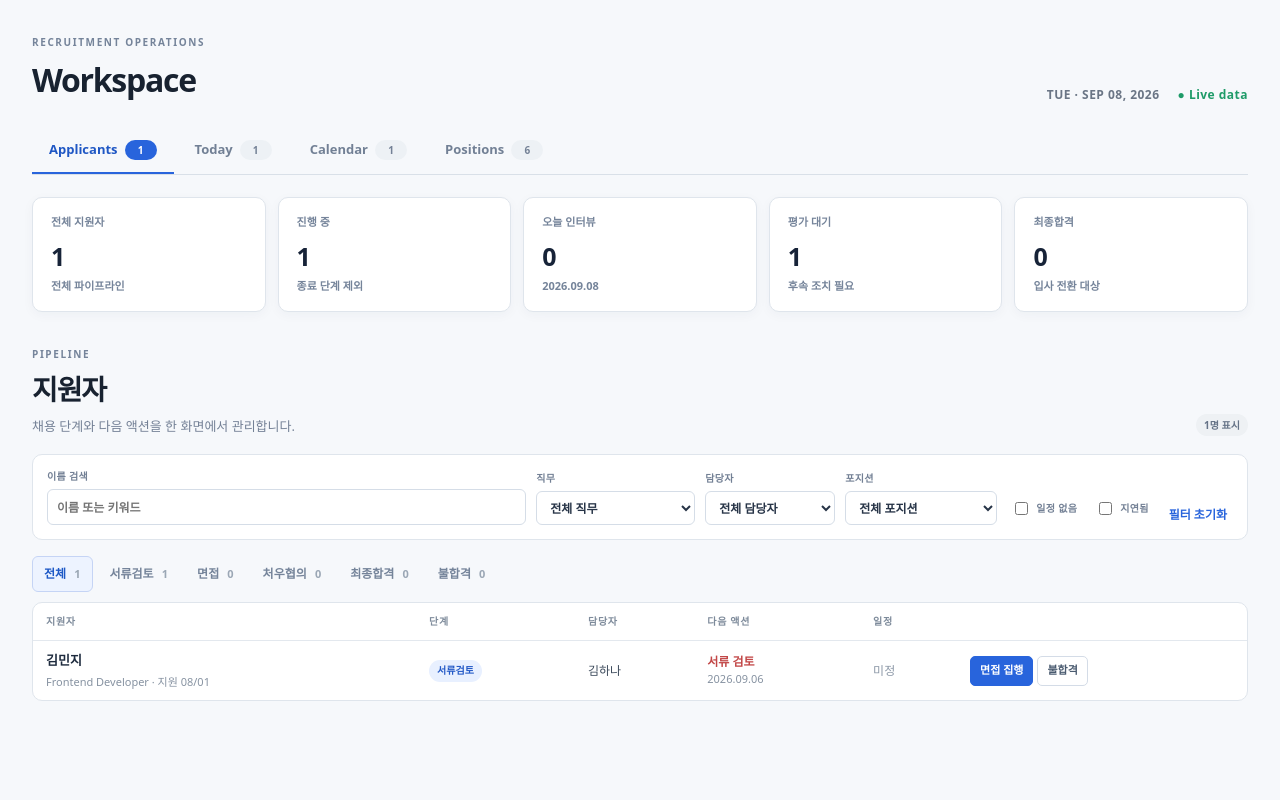
Test: offers exactly destination and rejection actions and requires a rejection reason
Expected: the button with aria-label "면접 집행 · 김민지 · applicant-001" reads "면접 집행", [970,656,1033,686]
Click the button with aria-label "불합격 처리 · 김민지 · applicant-001": (1063, 670) [1037,656,1088,686]
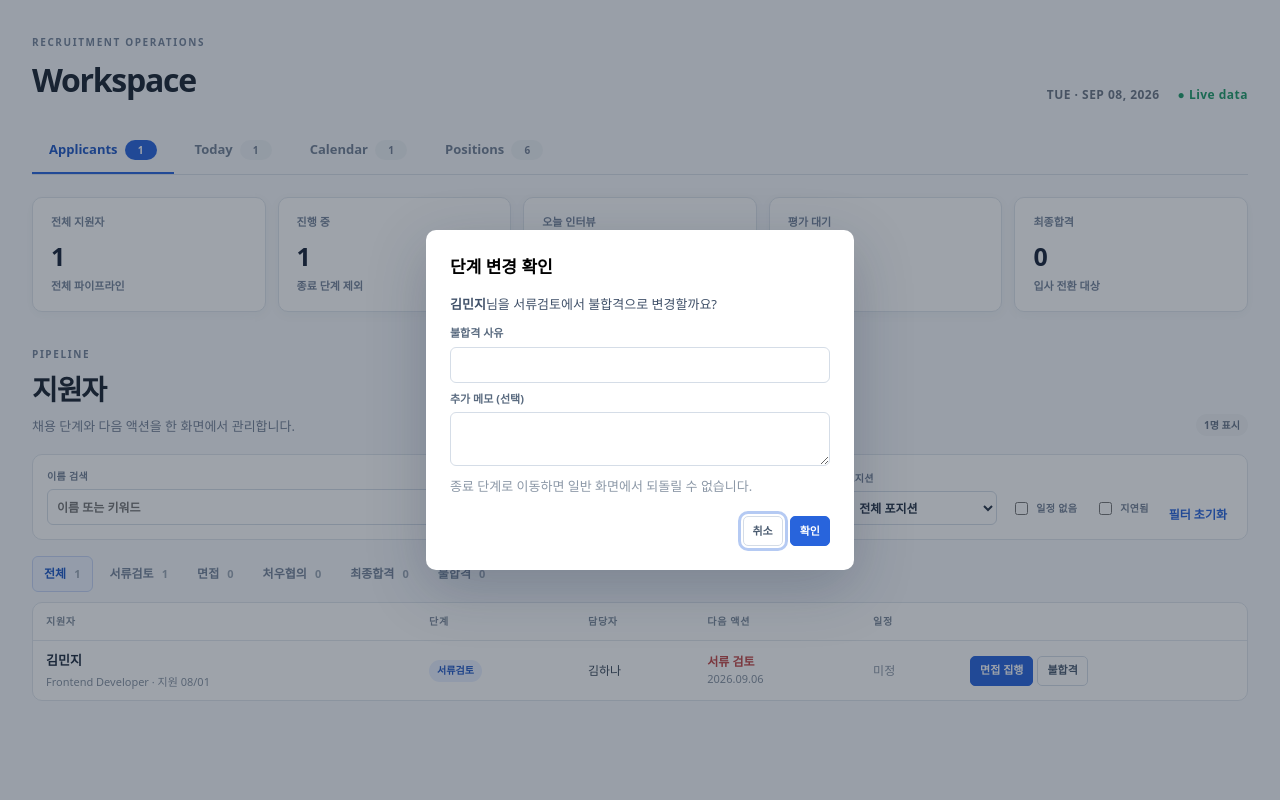
Expected: the dialog is shown, [426,230,854,570]
Click the button "확인": (810, 531) [790,516,830,546]
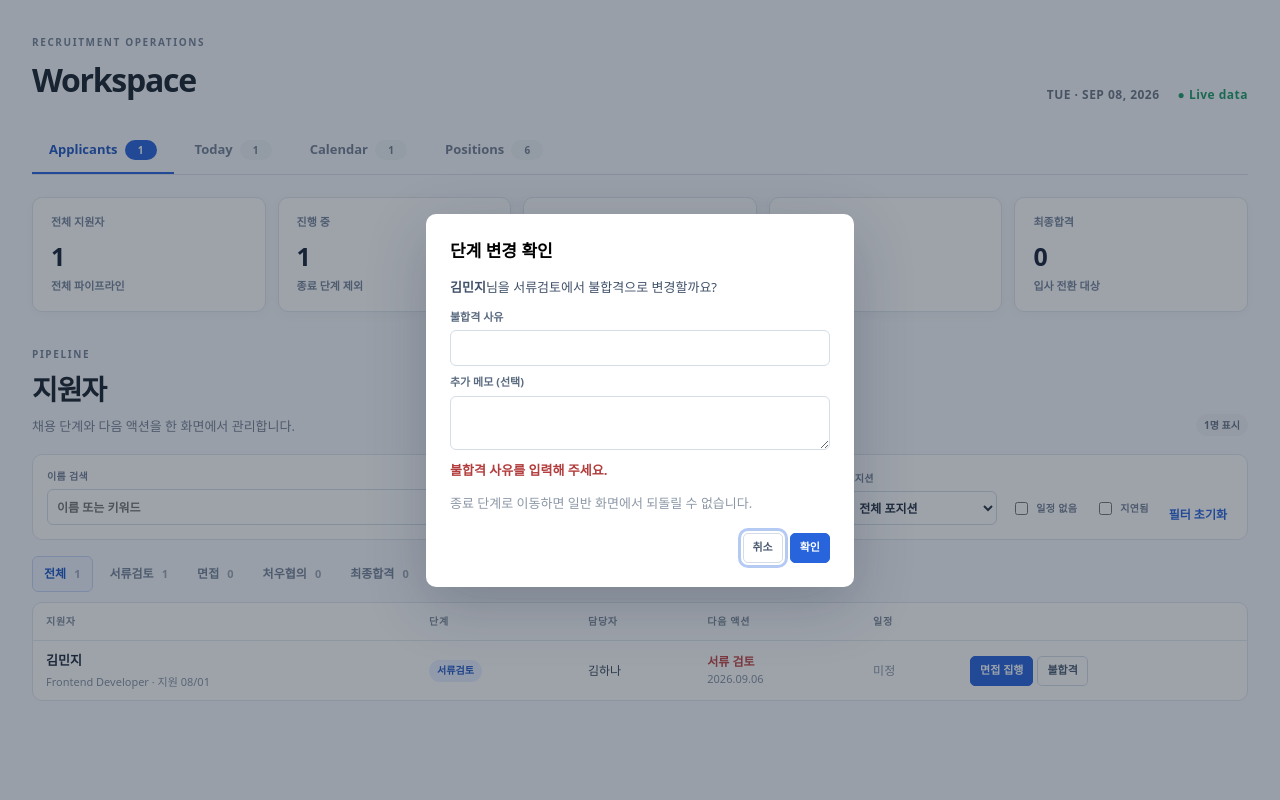
Expected: the text "불합격 사유를 입력해 주세요." is shown, [450,460,607,478]
In the field labelled "불합격 사유": (640, 348) [450,330,830,366], type "경력 요건 불일치"
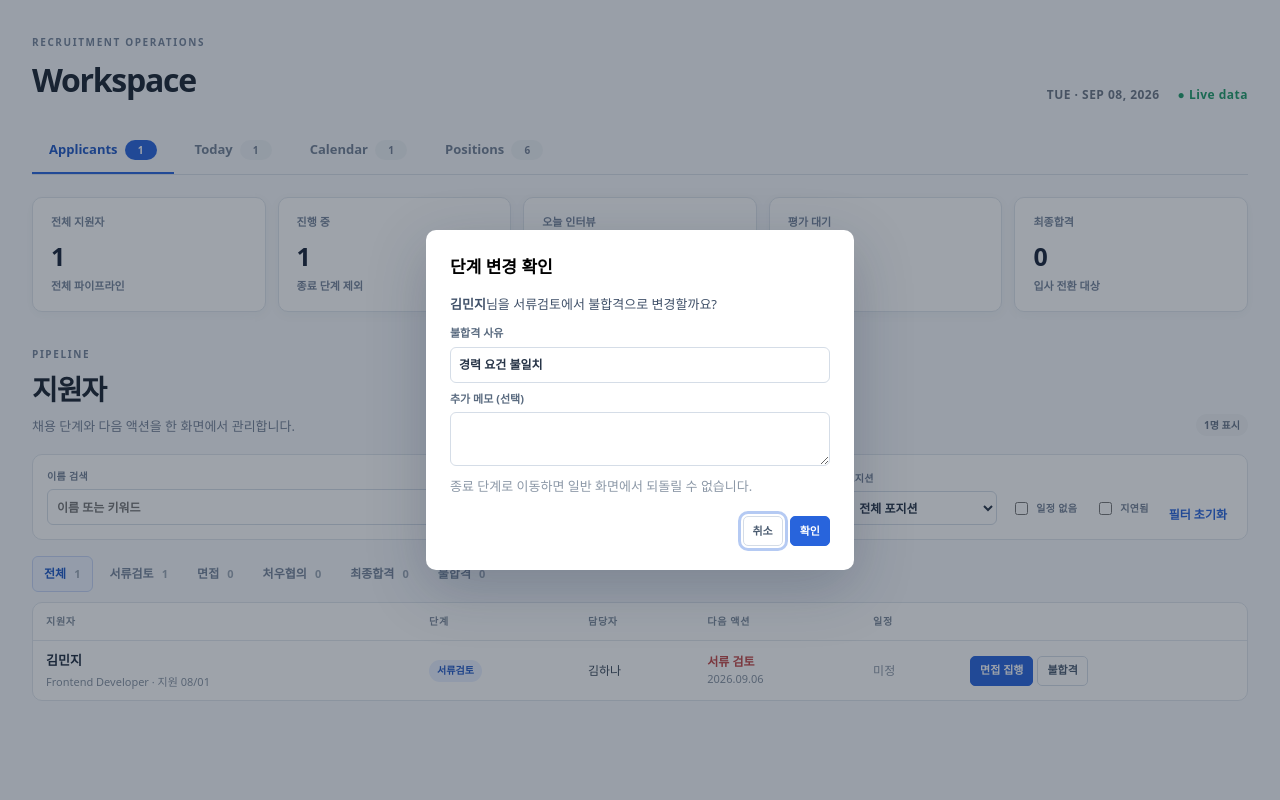
Click the button "확인": (810, 531) [790,516,830,546]
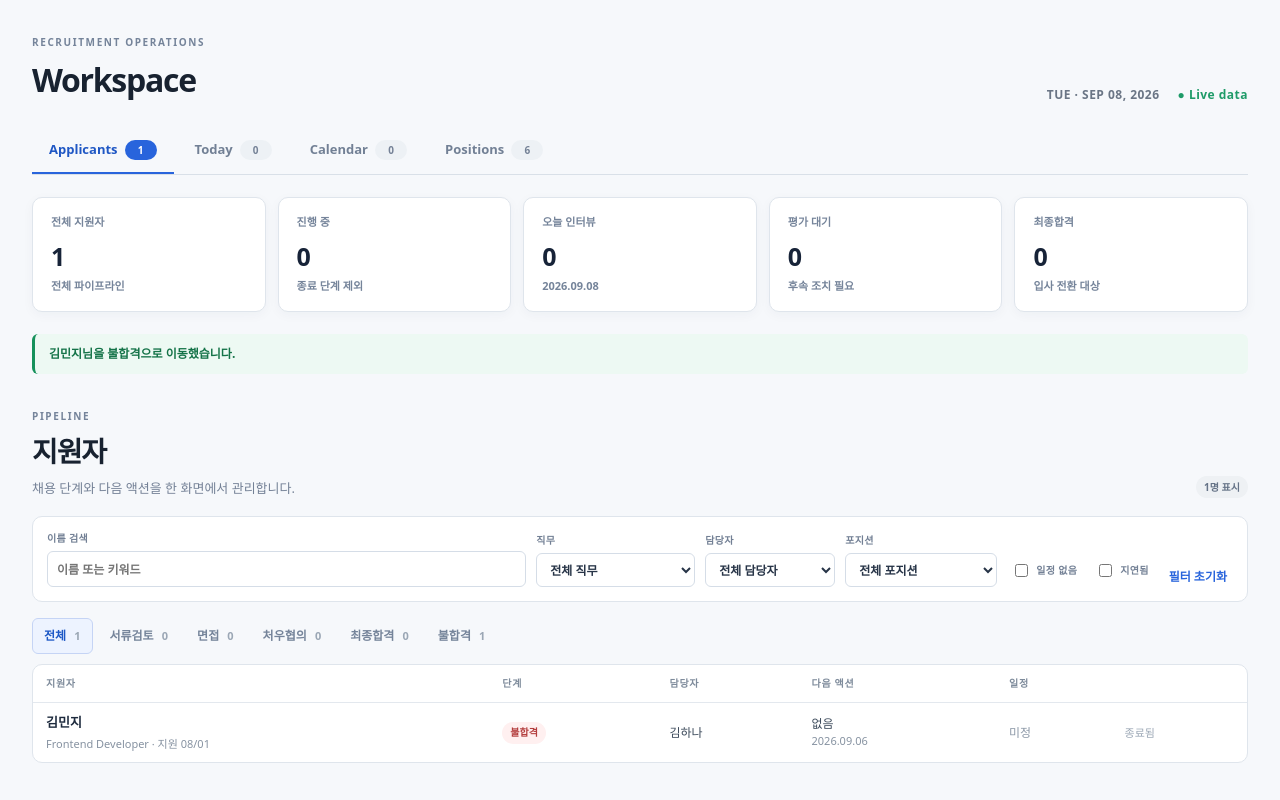
Expected: the message shows "불합격", [32,334,1248,374]
